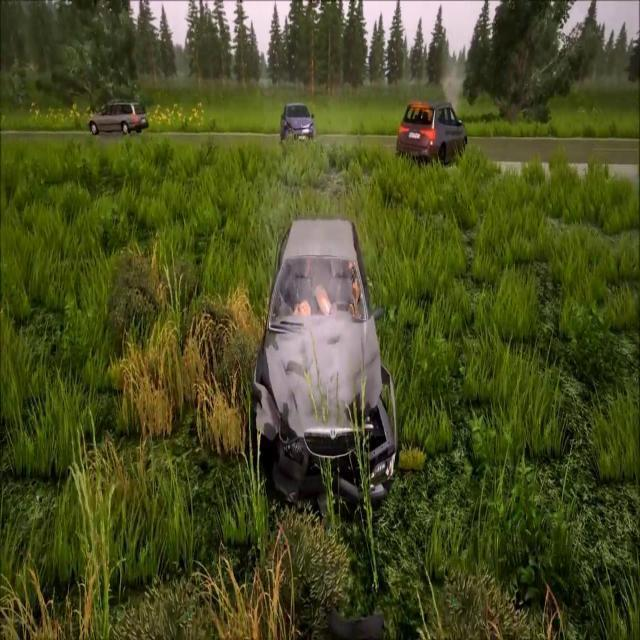multiple_accident: (230, 53, 487, 523)
